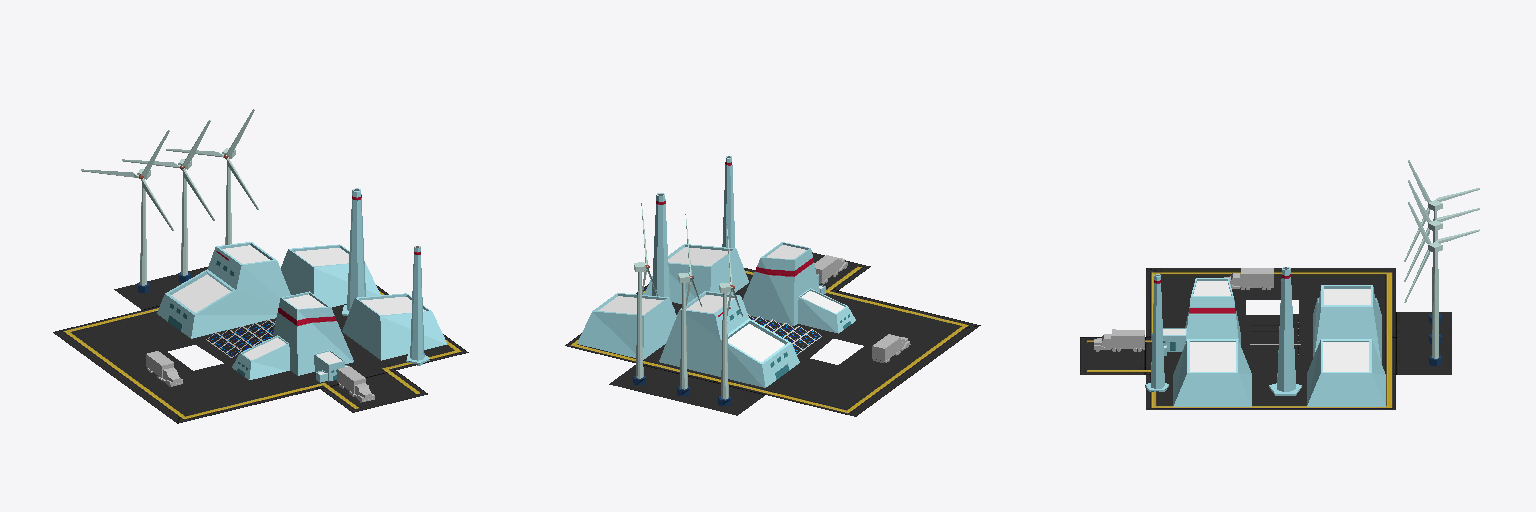
The picture shows the model from 3 angles: view 1: azimuth 30°, elevation 25°; view 2: azimuth 150°, elevation 25°; view 3: azimuth 270°, elevation 25°; orthographic projection.
Parts seen in each view (by area): view 1: factory_ground_Plane.220, factory_house2_Cube.014, factory_house1_Cube.016, factory_tube1_Cylinder.003, factory_WindTurbine2_Mesh.006, factory_WindTurbine1_Mesh.007, factory_tube2_Cylinder.001, factory_WindTurbine3_Mesh.005, factory_truck2_factory_truck_Cube.025, factory_truck1_factory_truck_Cube.002; view 2: factory_ground_Plane.220, factory_house2_Cube.014, factory_house1_Cube.016, factory_tube1_Cylinder.003, factory_WindTurbine3_Mesh.005, factory_WindTurbine1_Mesh.007, factory_WindTurbine2_Mesh.006, factory_tube2_Cylinder.001, factory_truck1_factory_truck_Cube.002, factory_truck2_factory_truck_Cube.025; view 3: factory_ground_Plane.220, factory_house2_Cube.014, factory_house1_Cube.016, factory_tube1_Cylinder.003, factory_WindTurbine3_Mesh.005, factory_tube2_Cylinder.001, factory_truck2_factory_truck_Cube.025, factory_truck1_factory_truck_Cube.002, factory_WindTurbine1_Mesh.007, factory_WindTurbine2_Mesh.006.
Part boxes in pixels (x1,y1,x2,y2): factory_ground_Plane.220: (53,267,468,423); factory_house2_Cube.014: (157,242,380,338); factory_house1_Cube.016: (232,291,446,382); factory_tube1_Cylinder.003: (342,188,365,315); factory_WindTurbine2_Mesh.006: (81,130,173,292); factory_WindTurbine1_Mesh.007: (122,120,214,282); factory_tube2_Cylinder.001: (406,246,429,365); factory_WindTurbine3_Mesh.005: (166,109,258,244); factory_truck2_factory_truck_Cube.025: (337,366,374,402); factory_truck1_factory_truck_Cube.002: (146,351,182,386); factory_ground_Plane.220: (565,252,980,416); factory_house2_Cube.014: (577,291,799,387); factory_house1_Cube.016: (644,242,855,333); factory_tube1_Cylinder.003: (652,193,674,309); factory_WindTurbine3_Mesh.005: (633,203,657,385); factory_WindTurbine1_Mesh.007: (677,214,701,395); factory_WindTurbine2_Mesh.006: (718,224,742,405); factory_tube2_Cylinder.001: (722,156,734,247); factory_truck1_factory_truck_Cube.002: (872,334,910,362); factory_truck2_factory_truck_Cube.025: (814,255,847,284); factory_ground_Plane.220: (1080,268,1451,409); factory_house2_Cube.014: (1307,285,1385,406); factory_house1_Cube.016: (1163,278,1251,406); factory_tube1_Cylinder.003: (1269,267,1301,395); factory_WindTurbine3_Mesh.005: (1404,202,1479,365); factory_tube2_Cylinder.001: (1145,274,1168,391); factory_truck2_factory_truck_Cube.025: (1094,329,1144,351); factory_truck1_factory_truck_Cube.002: (1224,268,1273,289); factory_WindTurbine1_Mesh.007: (1404,180,1479,343); factory_WindTurbine2_Mesh.006: (1404,160,1479,323).
Bounding box in the file's own units: 7.56 × 4.21 × 8.98.
5 materials, 4 textured.